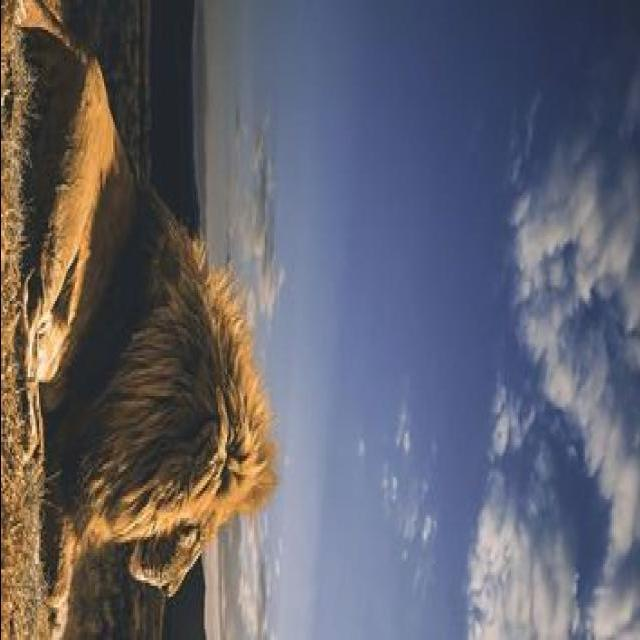lions: (0, 27, 640, 640)
